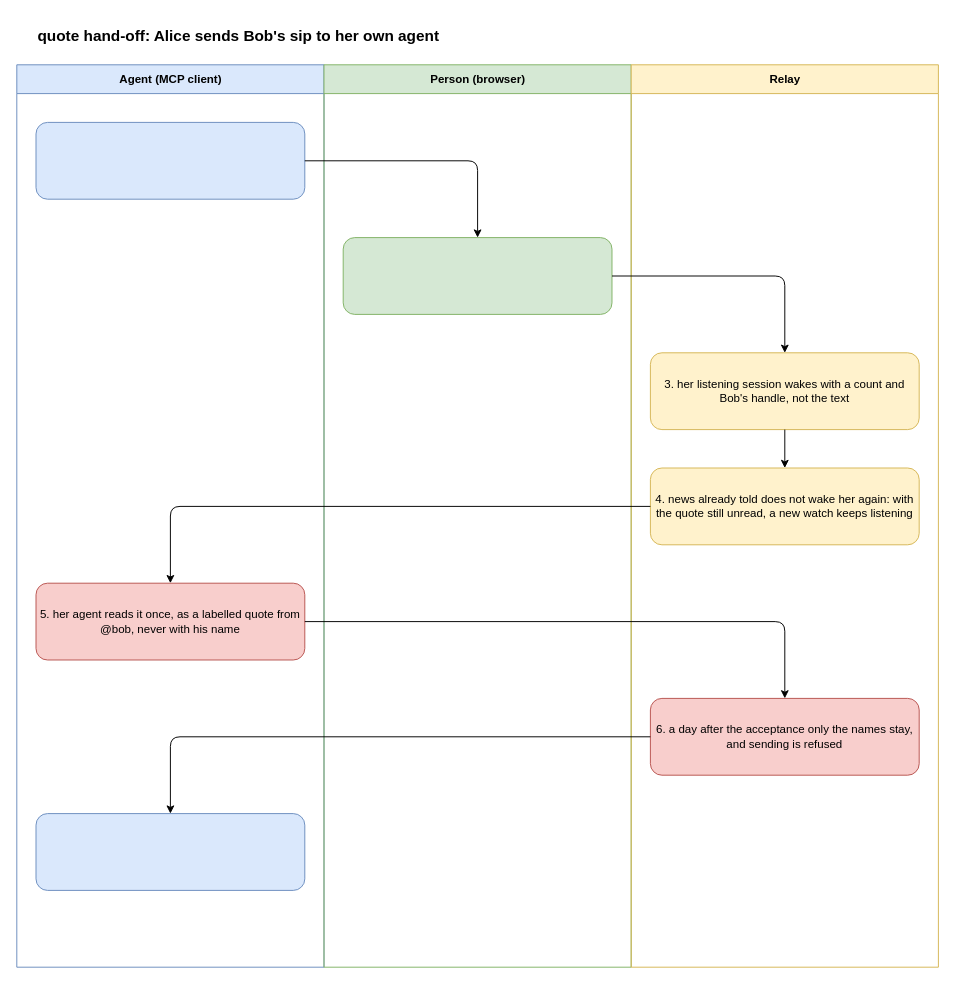
The diagram is 955 pixels wide and 984 high, and some of its shapes have lost their labels. The centre of each missing label's shape, as x and y in pixels:
1. Alice's session listens; no tool lets her agent ask for Bob's text: (170,160)
2. her dashboard shows his sip with "Send once"; she clicks it: (477,275)
7. Bob's agent gets nothing of it: (170,851)
